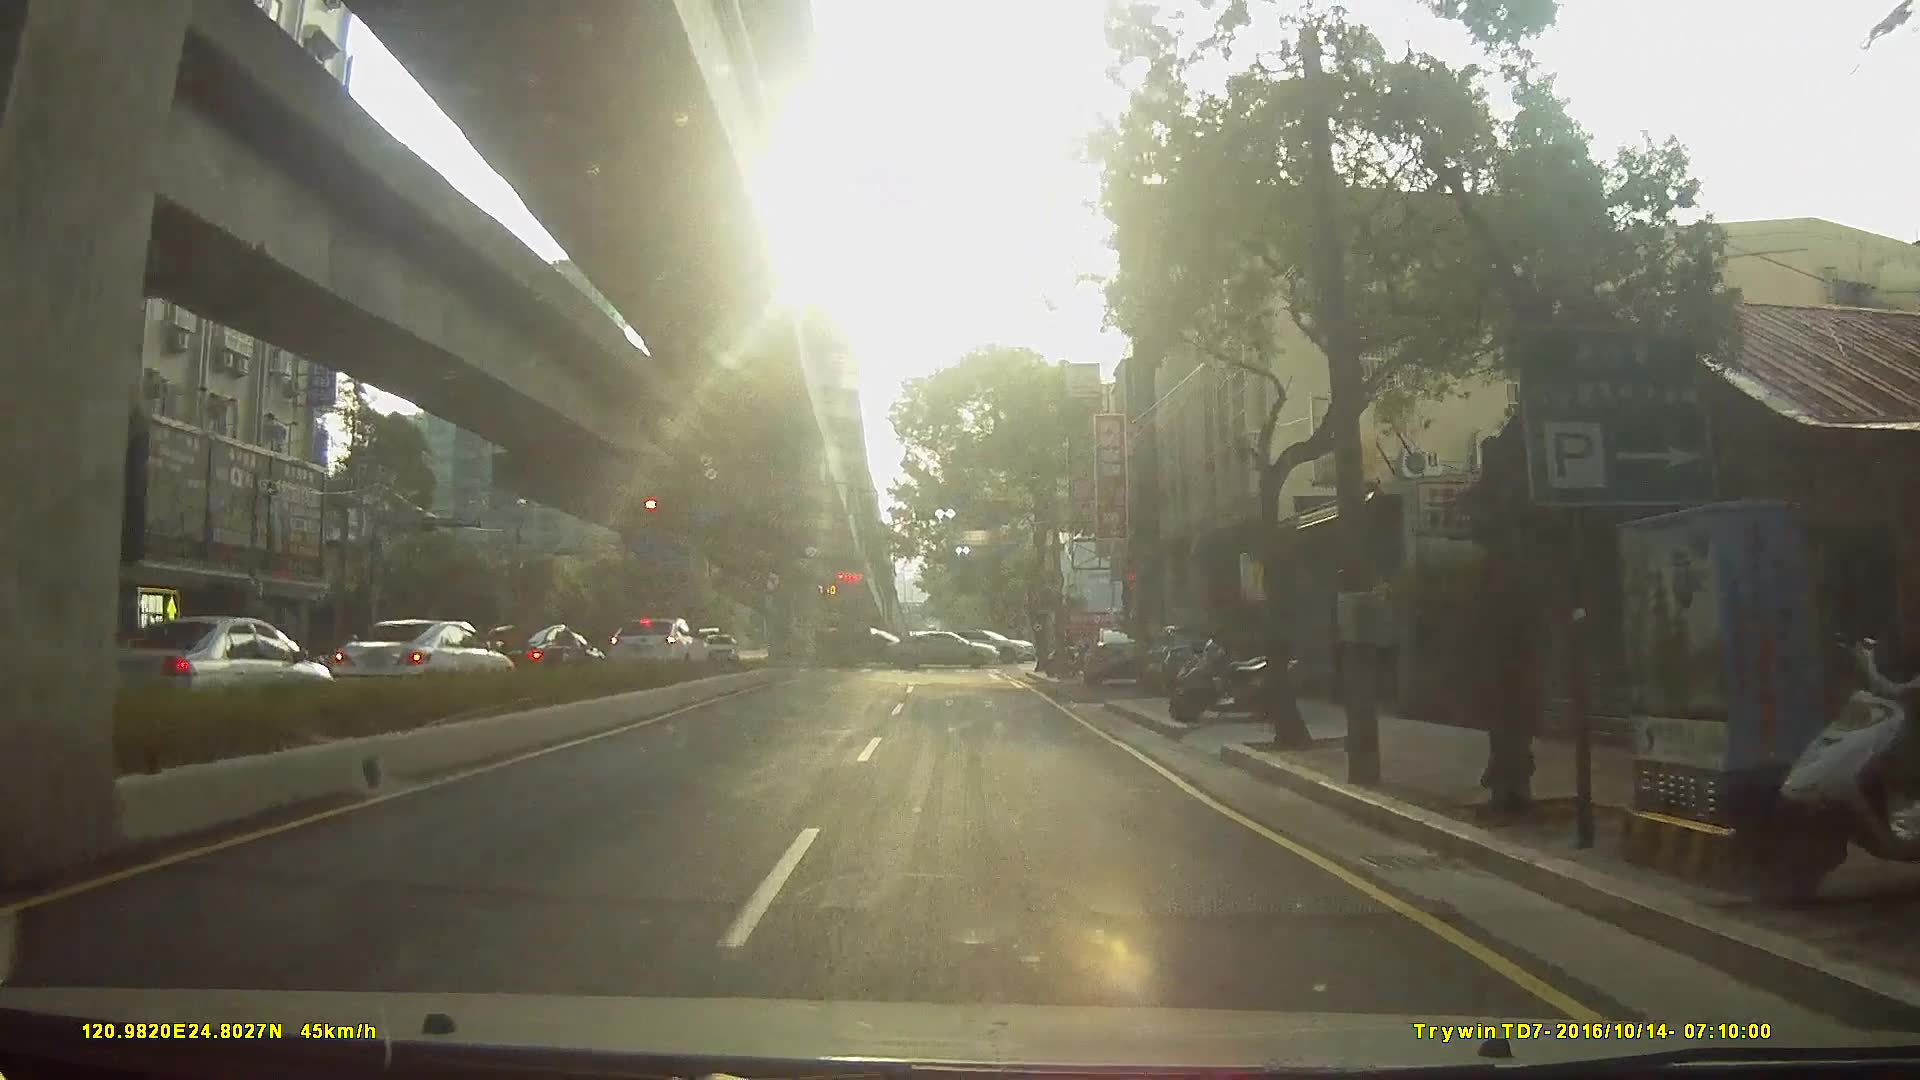vehicle: (76, 613, 342, 720), (322, 615, 516, 700), (463, 618, 603, 684), (603, 613, 713, 673), (1080, 620, 1160, 684), (890, 628, 1005, 669), (832, 625, 920, 667), (699, 628, 737, 663)
